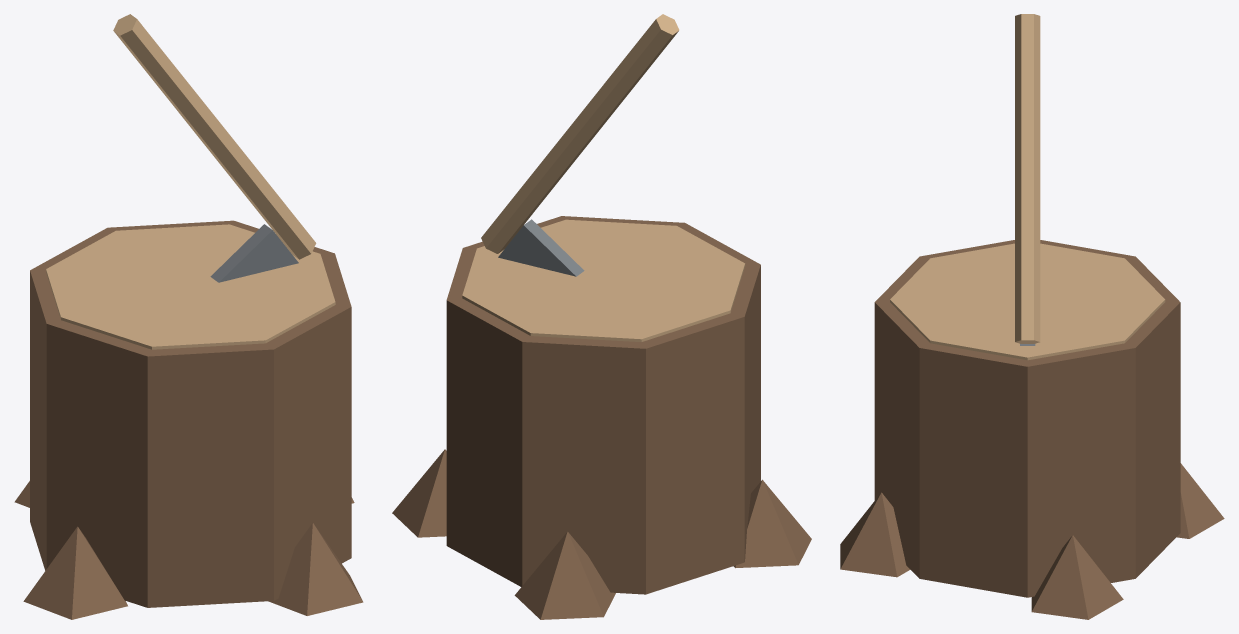
The model's file is SM_StumpAxe.fbx.
3 renders of one model, left to right at view 1: azimuth 30°, elevation 25°; view 2: azimuth 150°, elevation 25°; view 3: azimuth 270°, elevation 25°, orthographic. The views are drawn at different scales.
Parts seen in each view (by area): view 1: SM_StumpAxe; view 2: SM_StumpAxe; view 3: SM_StumpAxe.
Part boxes in pixels (x1=…): SM_StumpAxe: x1=14, y1=14, x2=363, y2=619; SM_StumpAxe: x1=392, y1=14, x2=811, y2=619; SM_StumpAxe: x1=840, y1=14, x2=1224, y2=619.
Bounding box in the file's own units: 0.7634 × 1.08 × 0.7541.
